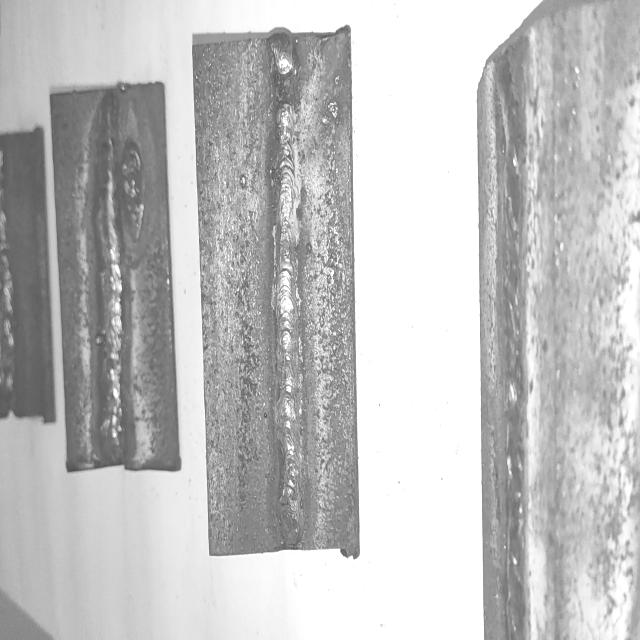Bad Weld: (98, 94, 120, 451)
Defect: (501, 59, 527, 635), (89, 134, 154, 247), (0, 183, 18, 406)
Good Weld: (271, 36, 304, 542)
